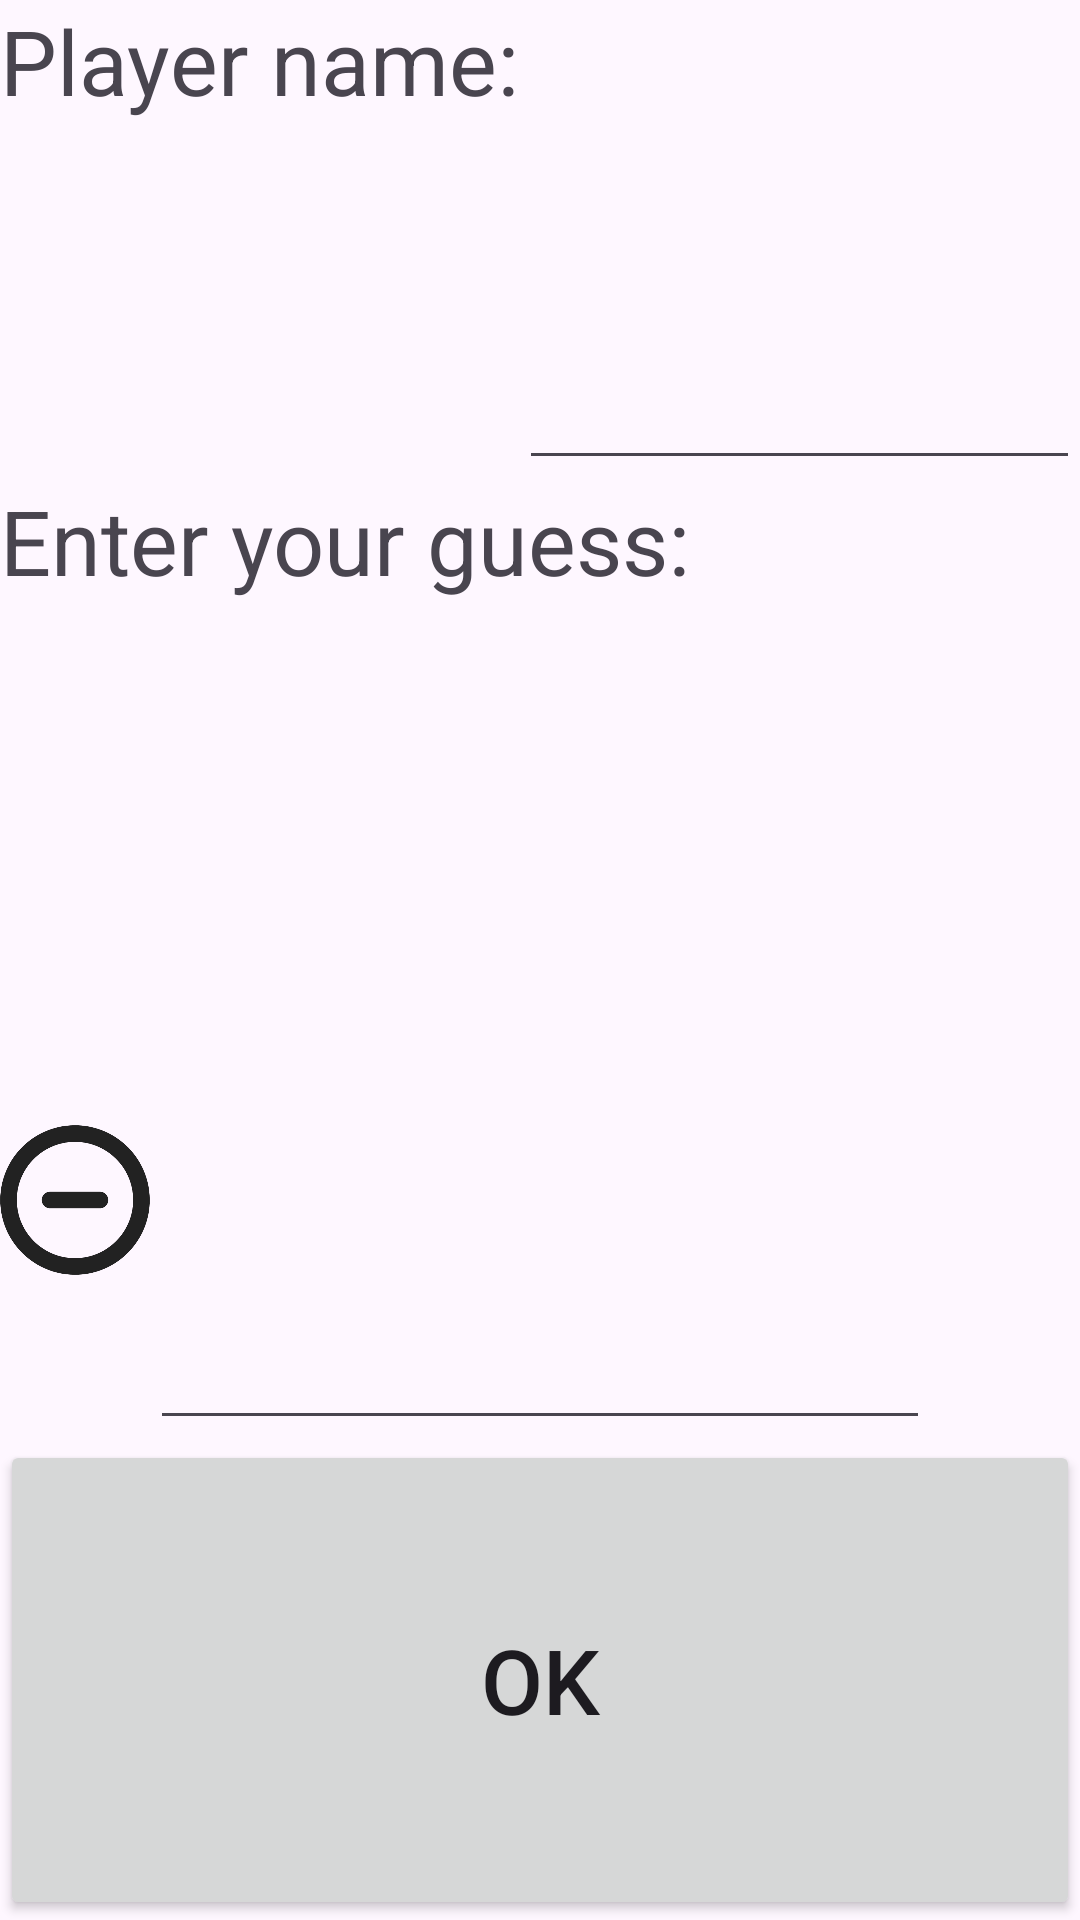

Screen size 1080px×1920px. Icon name, then its box in pixels as (x1, y1, x2, y2):
minus: (0, 1125, 150, 1275)
